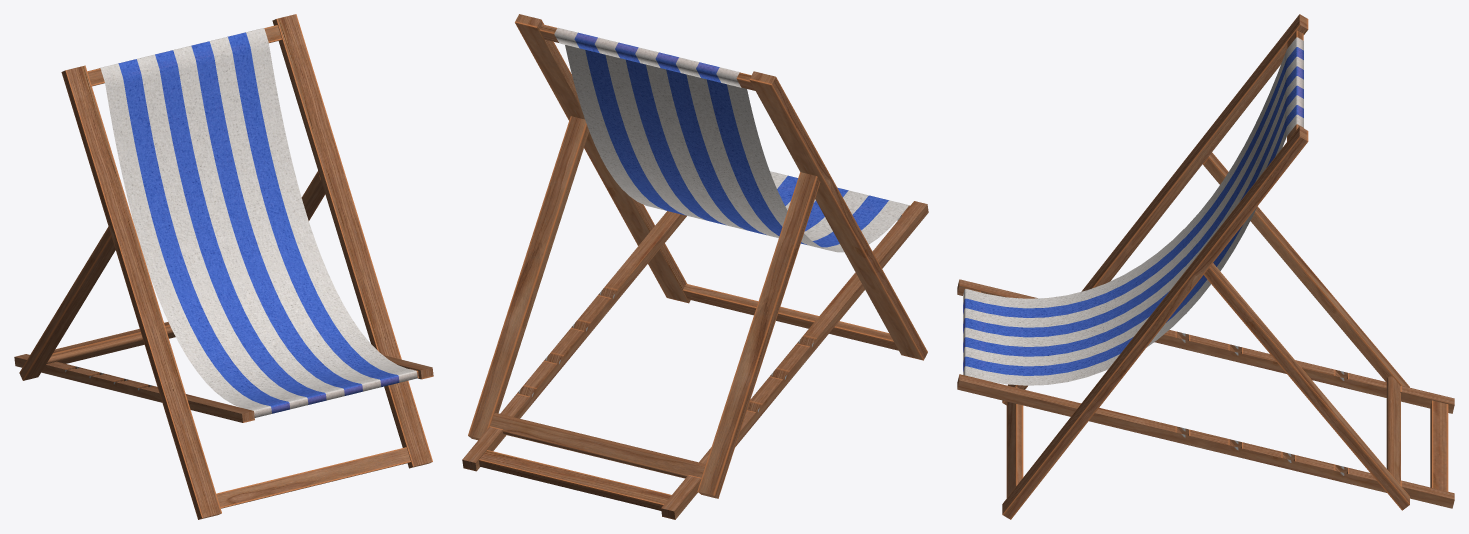
The model's file is Chair1.fbx.
The picture shows the model from 3 angles, left to right: view 1: azimuth 30°, elevation 25°; view 2: azimuth 150°, elevation 25°; view 3: azimuth 270°, elevation 25°; orthographic projection. The views are drawn at different scales.
Visible parts, largest first — view 1: Plane, Cube.001, Cube.006, Cube.004, Cube, Cylinder, Cube.005; view 2: Plane, Cube.006, Cube.001, Cube.004, Cylinder, Cube.005, Cube; view 3: Plane, Cube.001, Cube.004, Cube.006, Cube.005, Cube, Cylinder.
Part boxes in pixels (x1,y1,x2,y2): Plane: [99, 28, 417, 417]; Cube.001: [61, 14, 432, 519]; Cube.006: [19, 171, 325, 380]; Cube.004: [14, 354, 433, 422]; Cube: [216, 447, 410, 508]; Cylinder: [46, 327, 175, 363]; Cube.005: [51, 322, 170, 355]; Plane: [554, 27, 909, 252]; Cube.006: [468, 116, 820, 498]; Cube.001: [515, 14, 927, 360]; Cube.004: [462, 201, 928, 519]; Cylinder: [490, 413, 705, 478]; Cube.005: [479, 450, 671, 510]; Cube: [683, 283, 898, 350]; Plane: [963, 37, 1303, 385]; Cube.001: [1002, 14, 1308, 519]; Cube.004: [957, 279, 1454, 508]; Cube.006: [1202, 152, 1409, 510]; Cube.005: [1430, 400, 1448, 491]; Cube: [1006, 387, 1023, 497]; Cylinder: [1386, 376, 1400, 484].
Bounding box in the file's own units: 78.55 × 115 × 135.
1 material, 1 textured.
